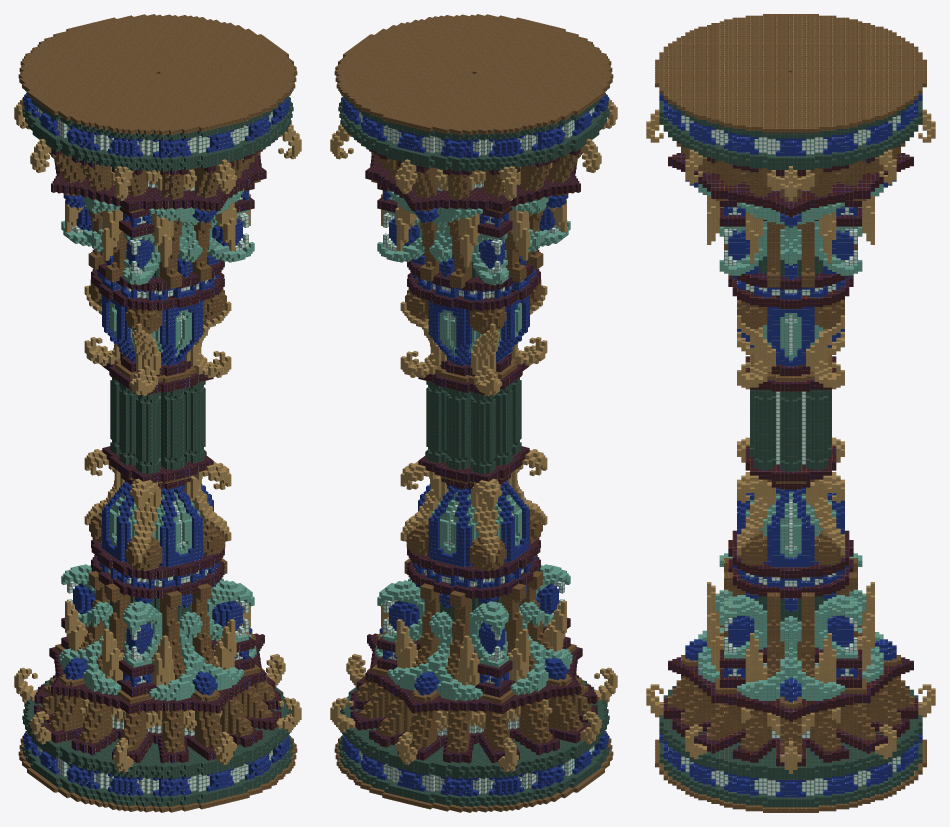
File: pillar.glb
3 renders of one model, left to right at view 1: azimuth 30°, elevation 25°; view 2: azimuth 150°, elevation 25°; view 3: azimuth 270°, elevation 25°, orthographic.
Visible parts, largest first — view 1: Object_2; view 2: Object_2; view 3: Object_2.
Boxes of the visible parts, <box> form: Object_2: <box>14,14,301,812</box>; Object_2: <box>330,14,617,812</box>; Object_2: <box>646,14,935,812</box>.
Bounding box in the file's own units: 67 × 175 × 67.
Materials: 1 (1 with a texture image).
